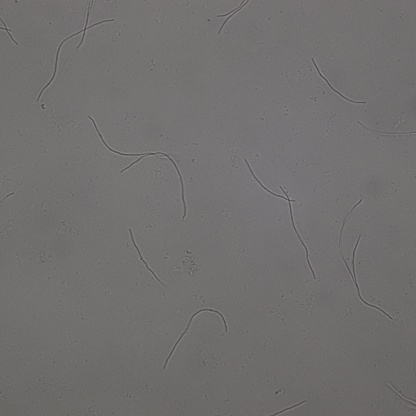Sensitive: (87, 114, 188, 218), (36, 8, 115, 100), (338, 197, 390, 318), (163, 306, 228, 369), (281, 187, 314, 280), (312, 58, 366, 108), (129, 228, 169, 288), (245, 161, 296, 206), (216, 1, 250, 34)
